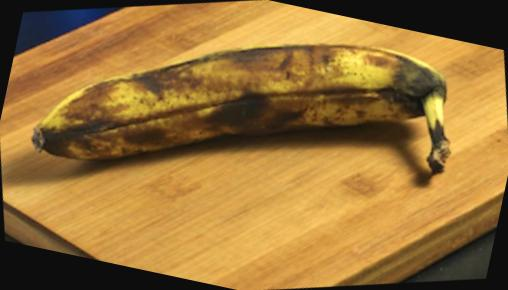Banana Overripe: (11, 0, 488, 248)
